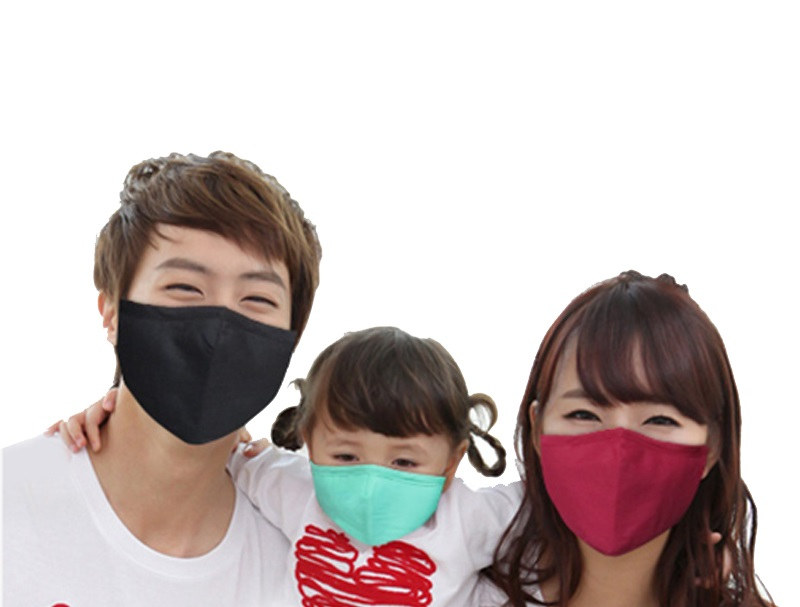face_mask: (118, 224, 296, 447), (534, 352, 712, 559), (307, 397, 450, 546)
